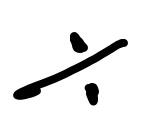div: (12, 31, 130, 106)
